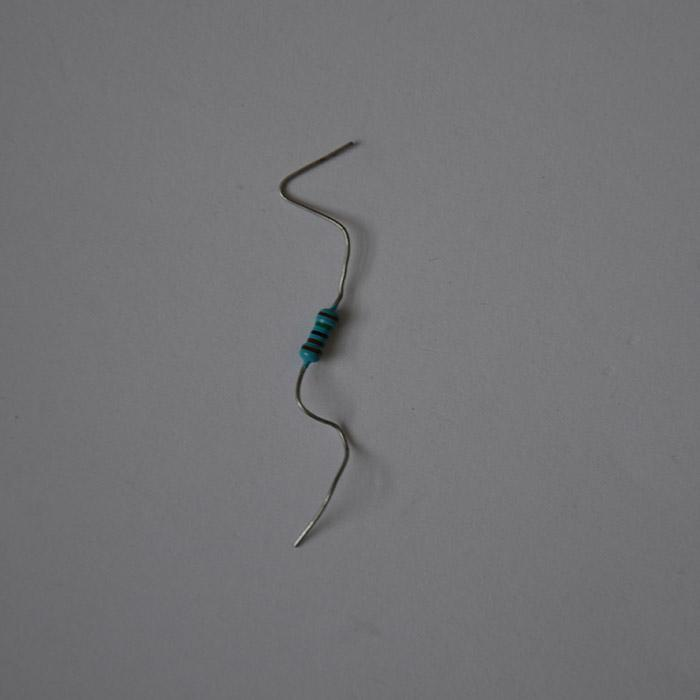resistor: (297, 302, 341, 367)
